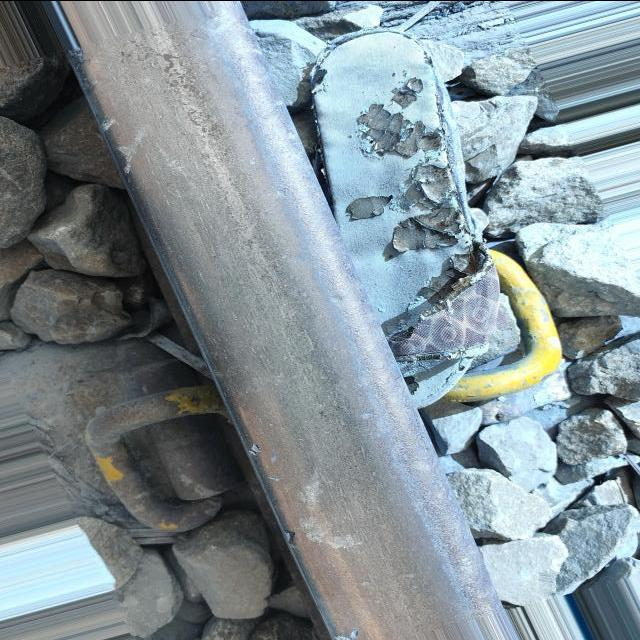squats_high: (115, 141, 137, 173), (266, 454, 286, 480), (334, 627, 364, 640), (99, 115, 119, 133), (247, 440, 265, 456), (283, 528, 299, 544)
